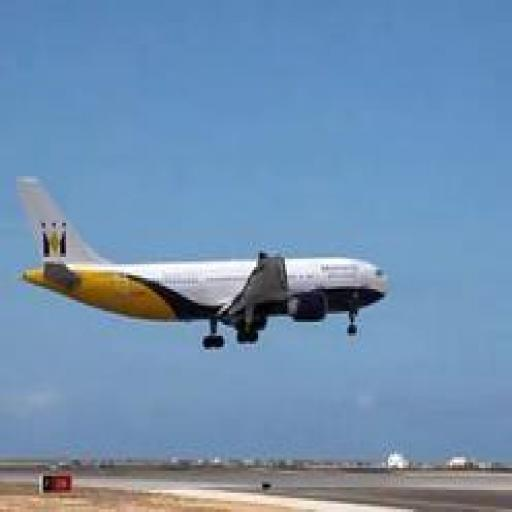aircraft: (17, 176, 392, 352)
